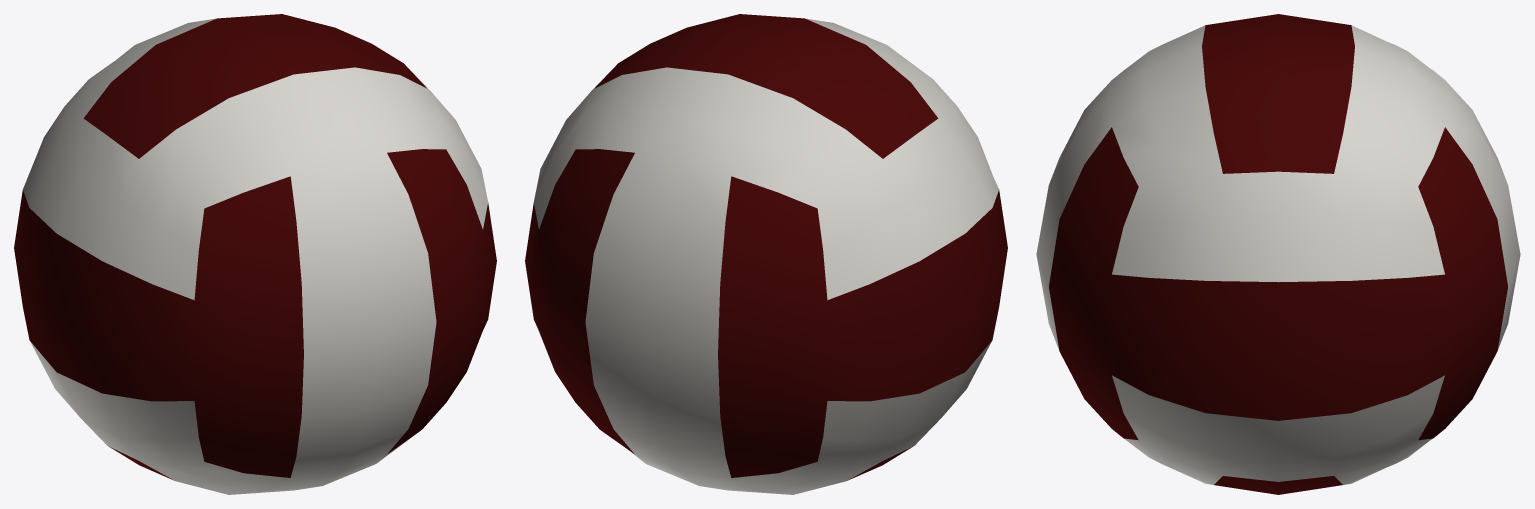
The model's file is Volleyball.glb.
3 views of the same model, side by side, from view 1: azimuth 30°, elevation 25°; view 2: azimuth 150°, elevation 25°; view 3: azimuth 270°, elevation 25° (orthographic).
Visible parts, largest first — view 1: Volleyball; view 2: Volleyball; view 3: Volleyball.
Part boxes in pixels (left/top/right/bottom): Volleyball: left=14, top=14, right=496, bottom=494; Volleyball: left=525, top=14, right=1007, bottom=494; Volleyball: left=1036, top=14, right=1520, bottom=494.
Size of the model in its own units: 0.28 by 0.28 by 0.28.
